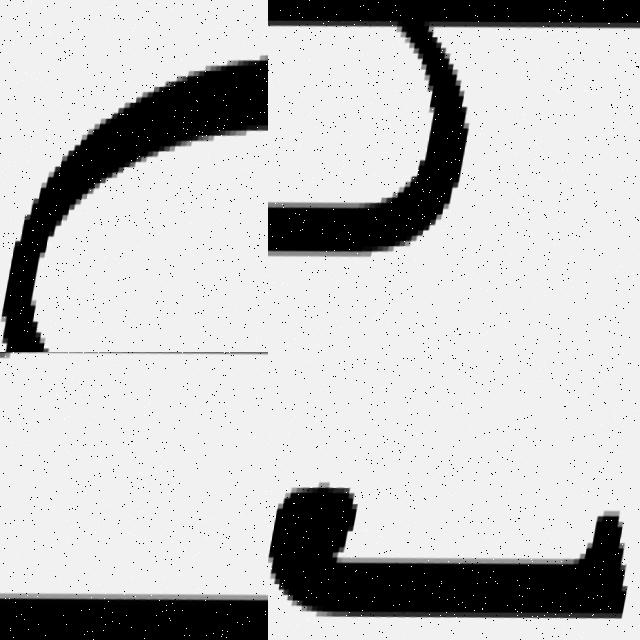J: (268, 443, 640, 640)
O: (3, 59, 268, 352)
U: (0, 352, 268, 640)
